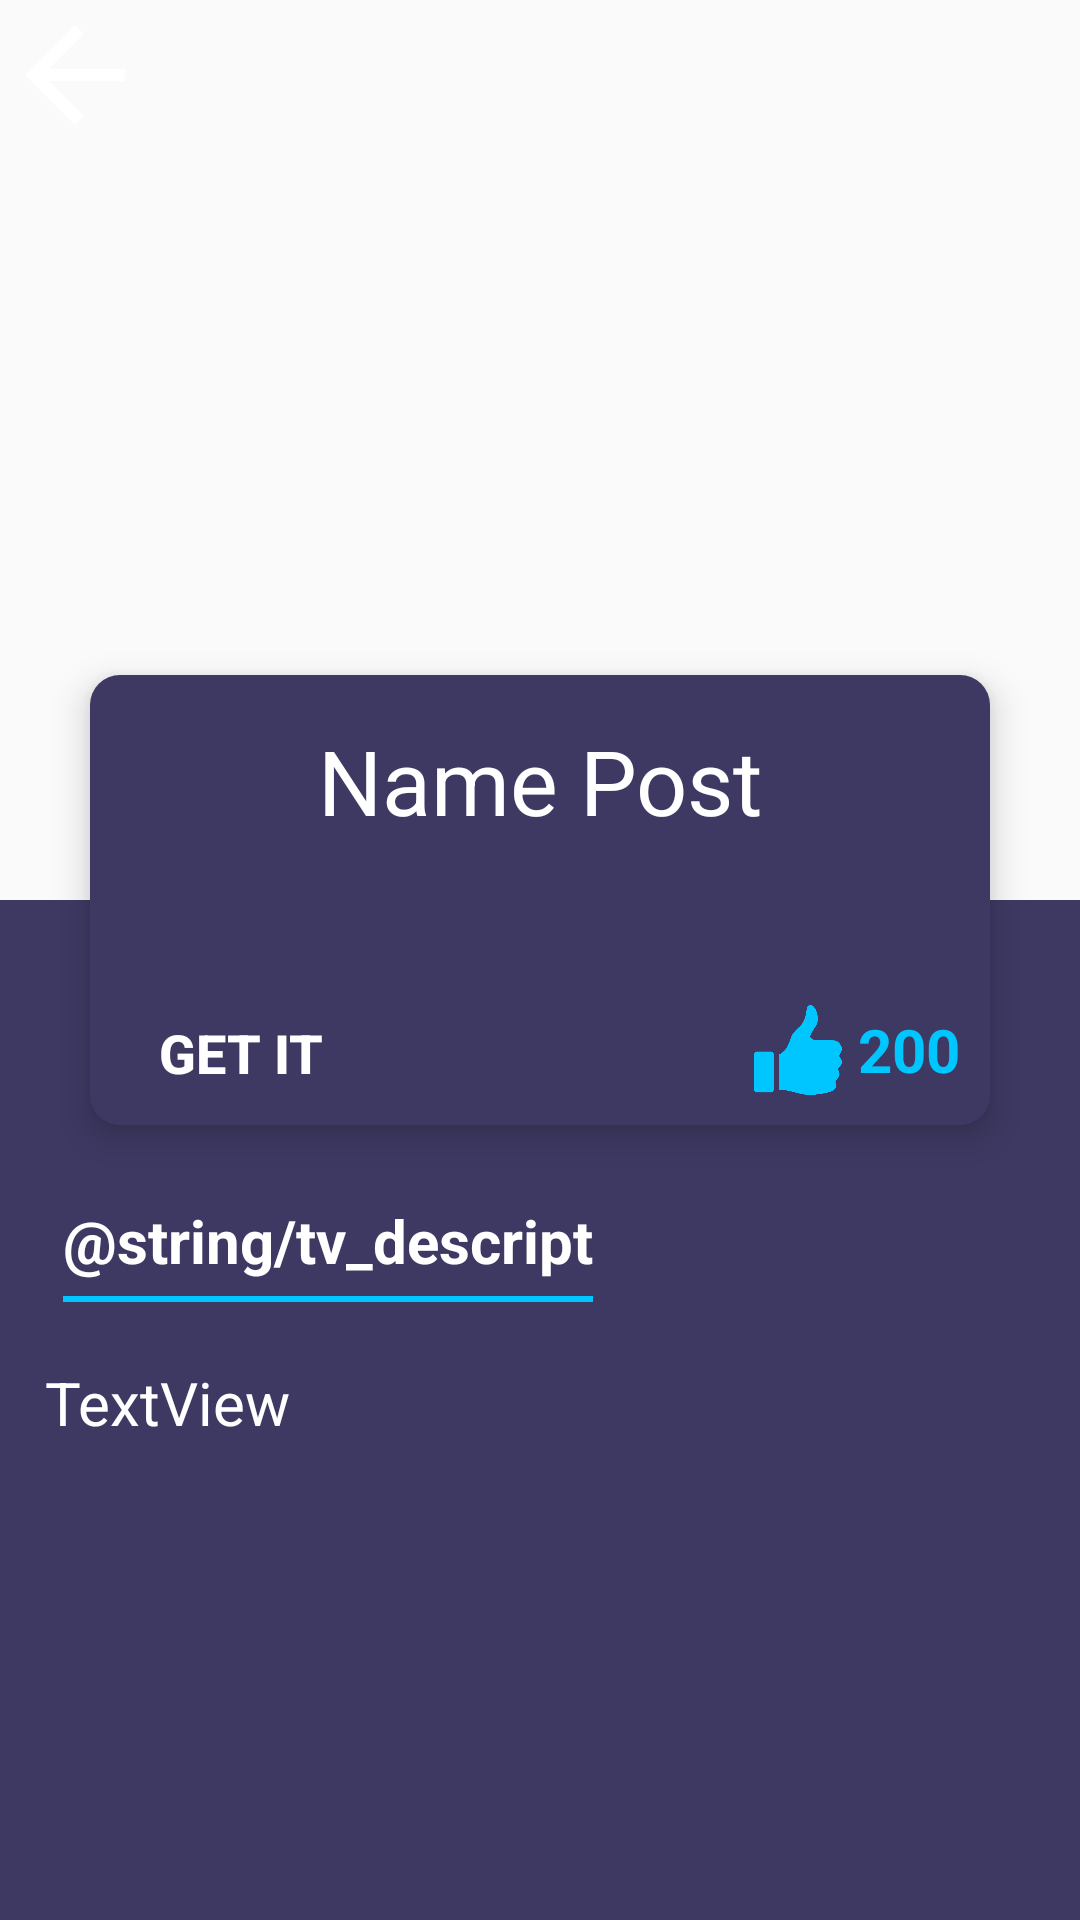

Where icons sit on this 1080*1920 app screen, as [x1, y1, x2, y2]:
vote: [754, 1005, 842, 1095]
